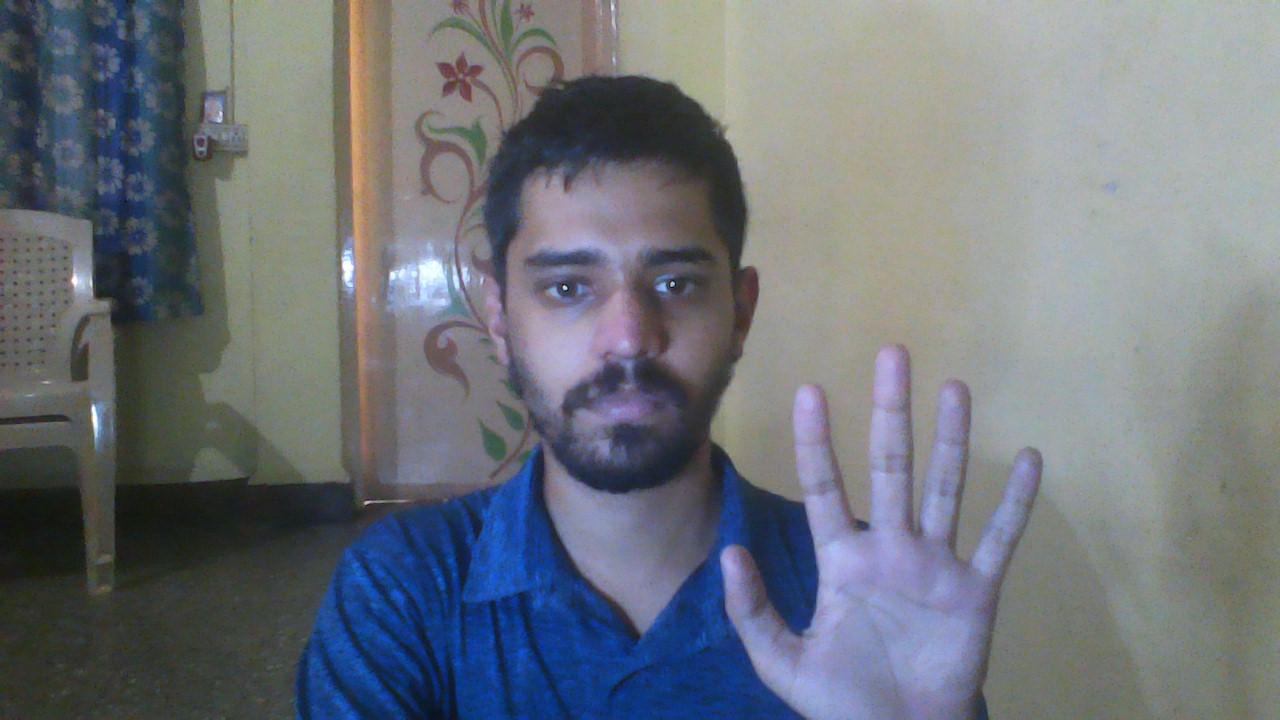hello: (708, 335, 1060, 720)
